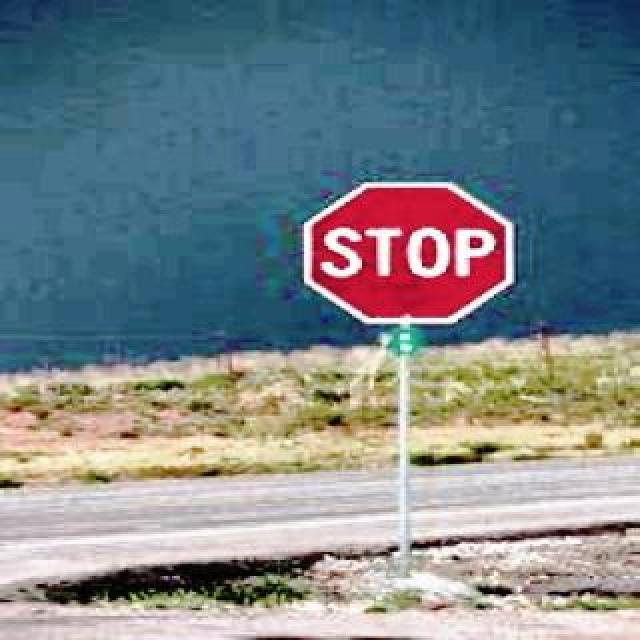stop: (292, 180, 518, 328)
